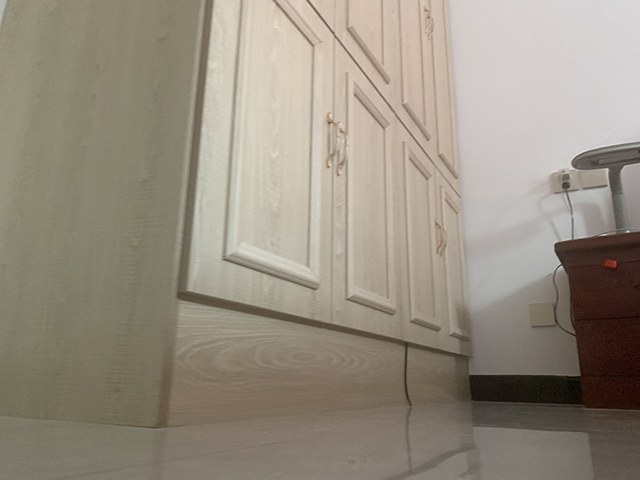cabinet: (1, 1, 475, 429), (553, 230, 640, 411)
